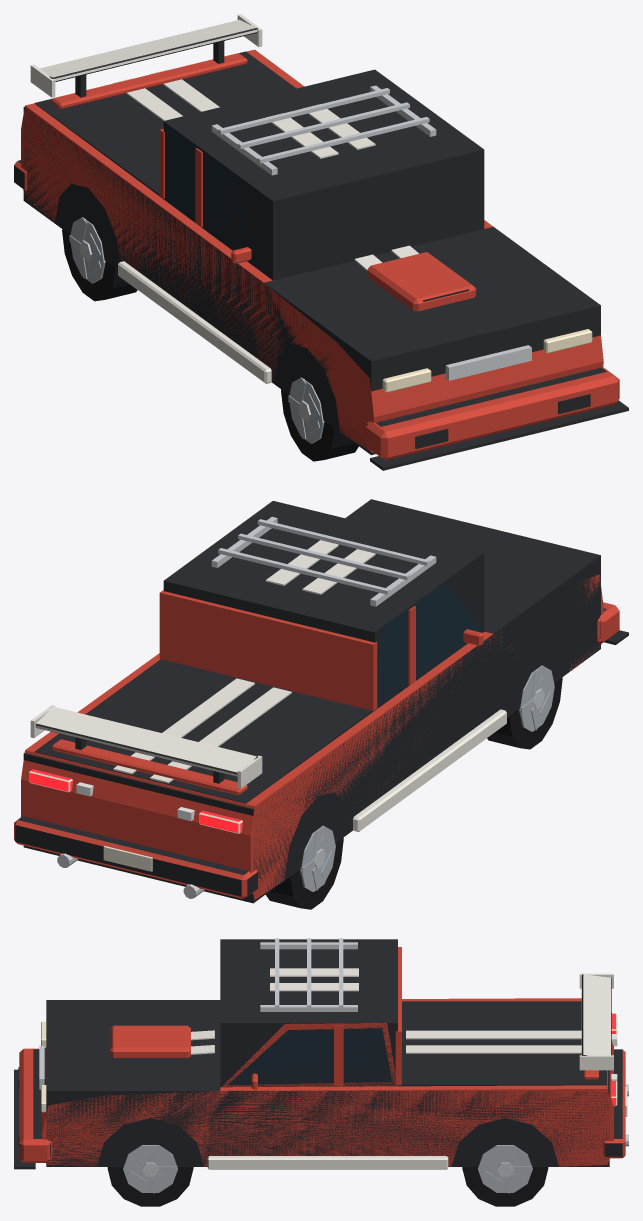
File: VEH_Pickup.fbx
3 renders of one model, top to bottom at view 1: azimuth 30°, elevation 25°; view 2: azimuth 150°, elevation 25°; view 3: azimuth 270°, elevation 25°, orthographic. The views are drawn at different scales.
Visible parts, largest first — view 1: VEH_Pickup__BODY, VEH_Pickup__COL_Body, VEH_Pickup__COL_Cabin, VEH_Pickup, VEH_Pickup__WHEEL_FR, VEH_Pickup__WHEEL_RR, VEH_Pickup__LIGHTS; view 2: VEH_Pickup__BODY, VEH_Pickup__COL_Body, VEH_Pickup, VEH_Pickup__COL_Cabin, VEH_Pickup__WHEEL_RR, VEH_Pickup__WHEEL_FR, VEH_Pickup__LIGHTS; view 3: VEH_Pickup__BODY, VEH_Pickup__COL_Body, VEH_Pickup, VEH_Pickup__COL_Cabin, VEH_Pickup__WHEEL_FL, VEH_Pickup__WHEEL_RL, VEH_Pickup__LIGHTS.
Boxes of the visible parts, x1,y1,x2,y2 form: VEH_Pickup__BODY: [14, 49, 606, 452]; VEH_Pickup__COL_Body: [23, 107, 600, 455]; VEH_Pickup__COL_Cabin: [163, 69, 484, 280]; VEH_Pickup: [30, 14, 628, 470]; VEH_Pickup__WHEEL_FR: [281, 377, 358, 461]; VEH_Pickup__WHEEL_RR: [62, 217, 137, 301]; VEH_Pickup__LIGHTS: [382, 329, 592, 392]; VEH_Pickup__BODY: [14, 574, 606, 899]; VEH_Pickup__COL_Body: [23, 499, 600, 903]; VEH_Pickup: [30, 516, 628, 898]; VEH_Pickup__COL_Cabin: [163, 501, 484, 709]; VEH_Pickup__WHEEL_RR: [265, 825, 343, 909]; VEH_Pickup__WHEEL_FR: [487, 665, 562, 749]; VEH_Pickup__LIGHTS: [29, 769, 242, 833]; VEH_Pickup__BODY: [33, 947, 627, 1166]; VEH_Pickup__COL_Body: [46, 1000, 609, 1166]; VEH_Pickup: [14, 938, 628, 1169]; VEH_Pickup__COL_Cabin: [220, 939, 397, 1087]; VEH_Pickup__WHEEL_FL: [107, 1144, 193, 1206]; VEH_Pickup__WHEEL_RL: [462, 1145, 548, 1206]; VEH_Pickup__LIGHTS: [41, 1013, 617, 1112].
Bounding box in the file's own units: 2.18 × 1.94 × 5.72.
